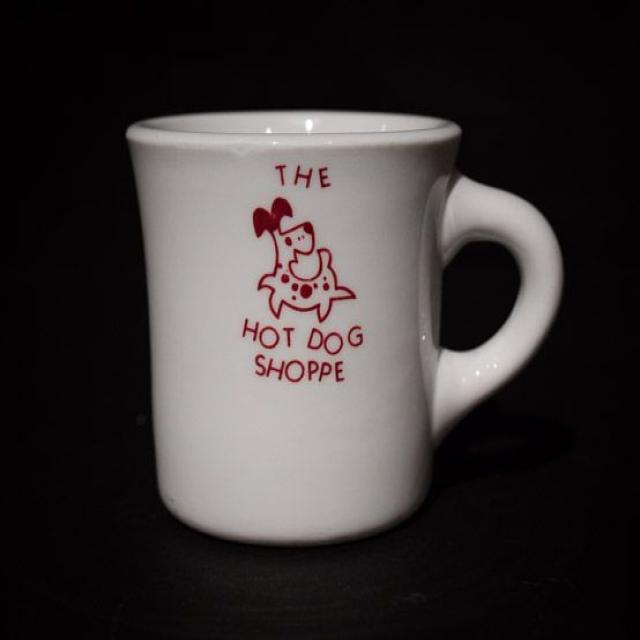glass cup: (124, 110, 564, 545)
